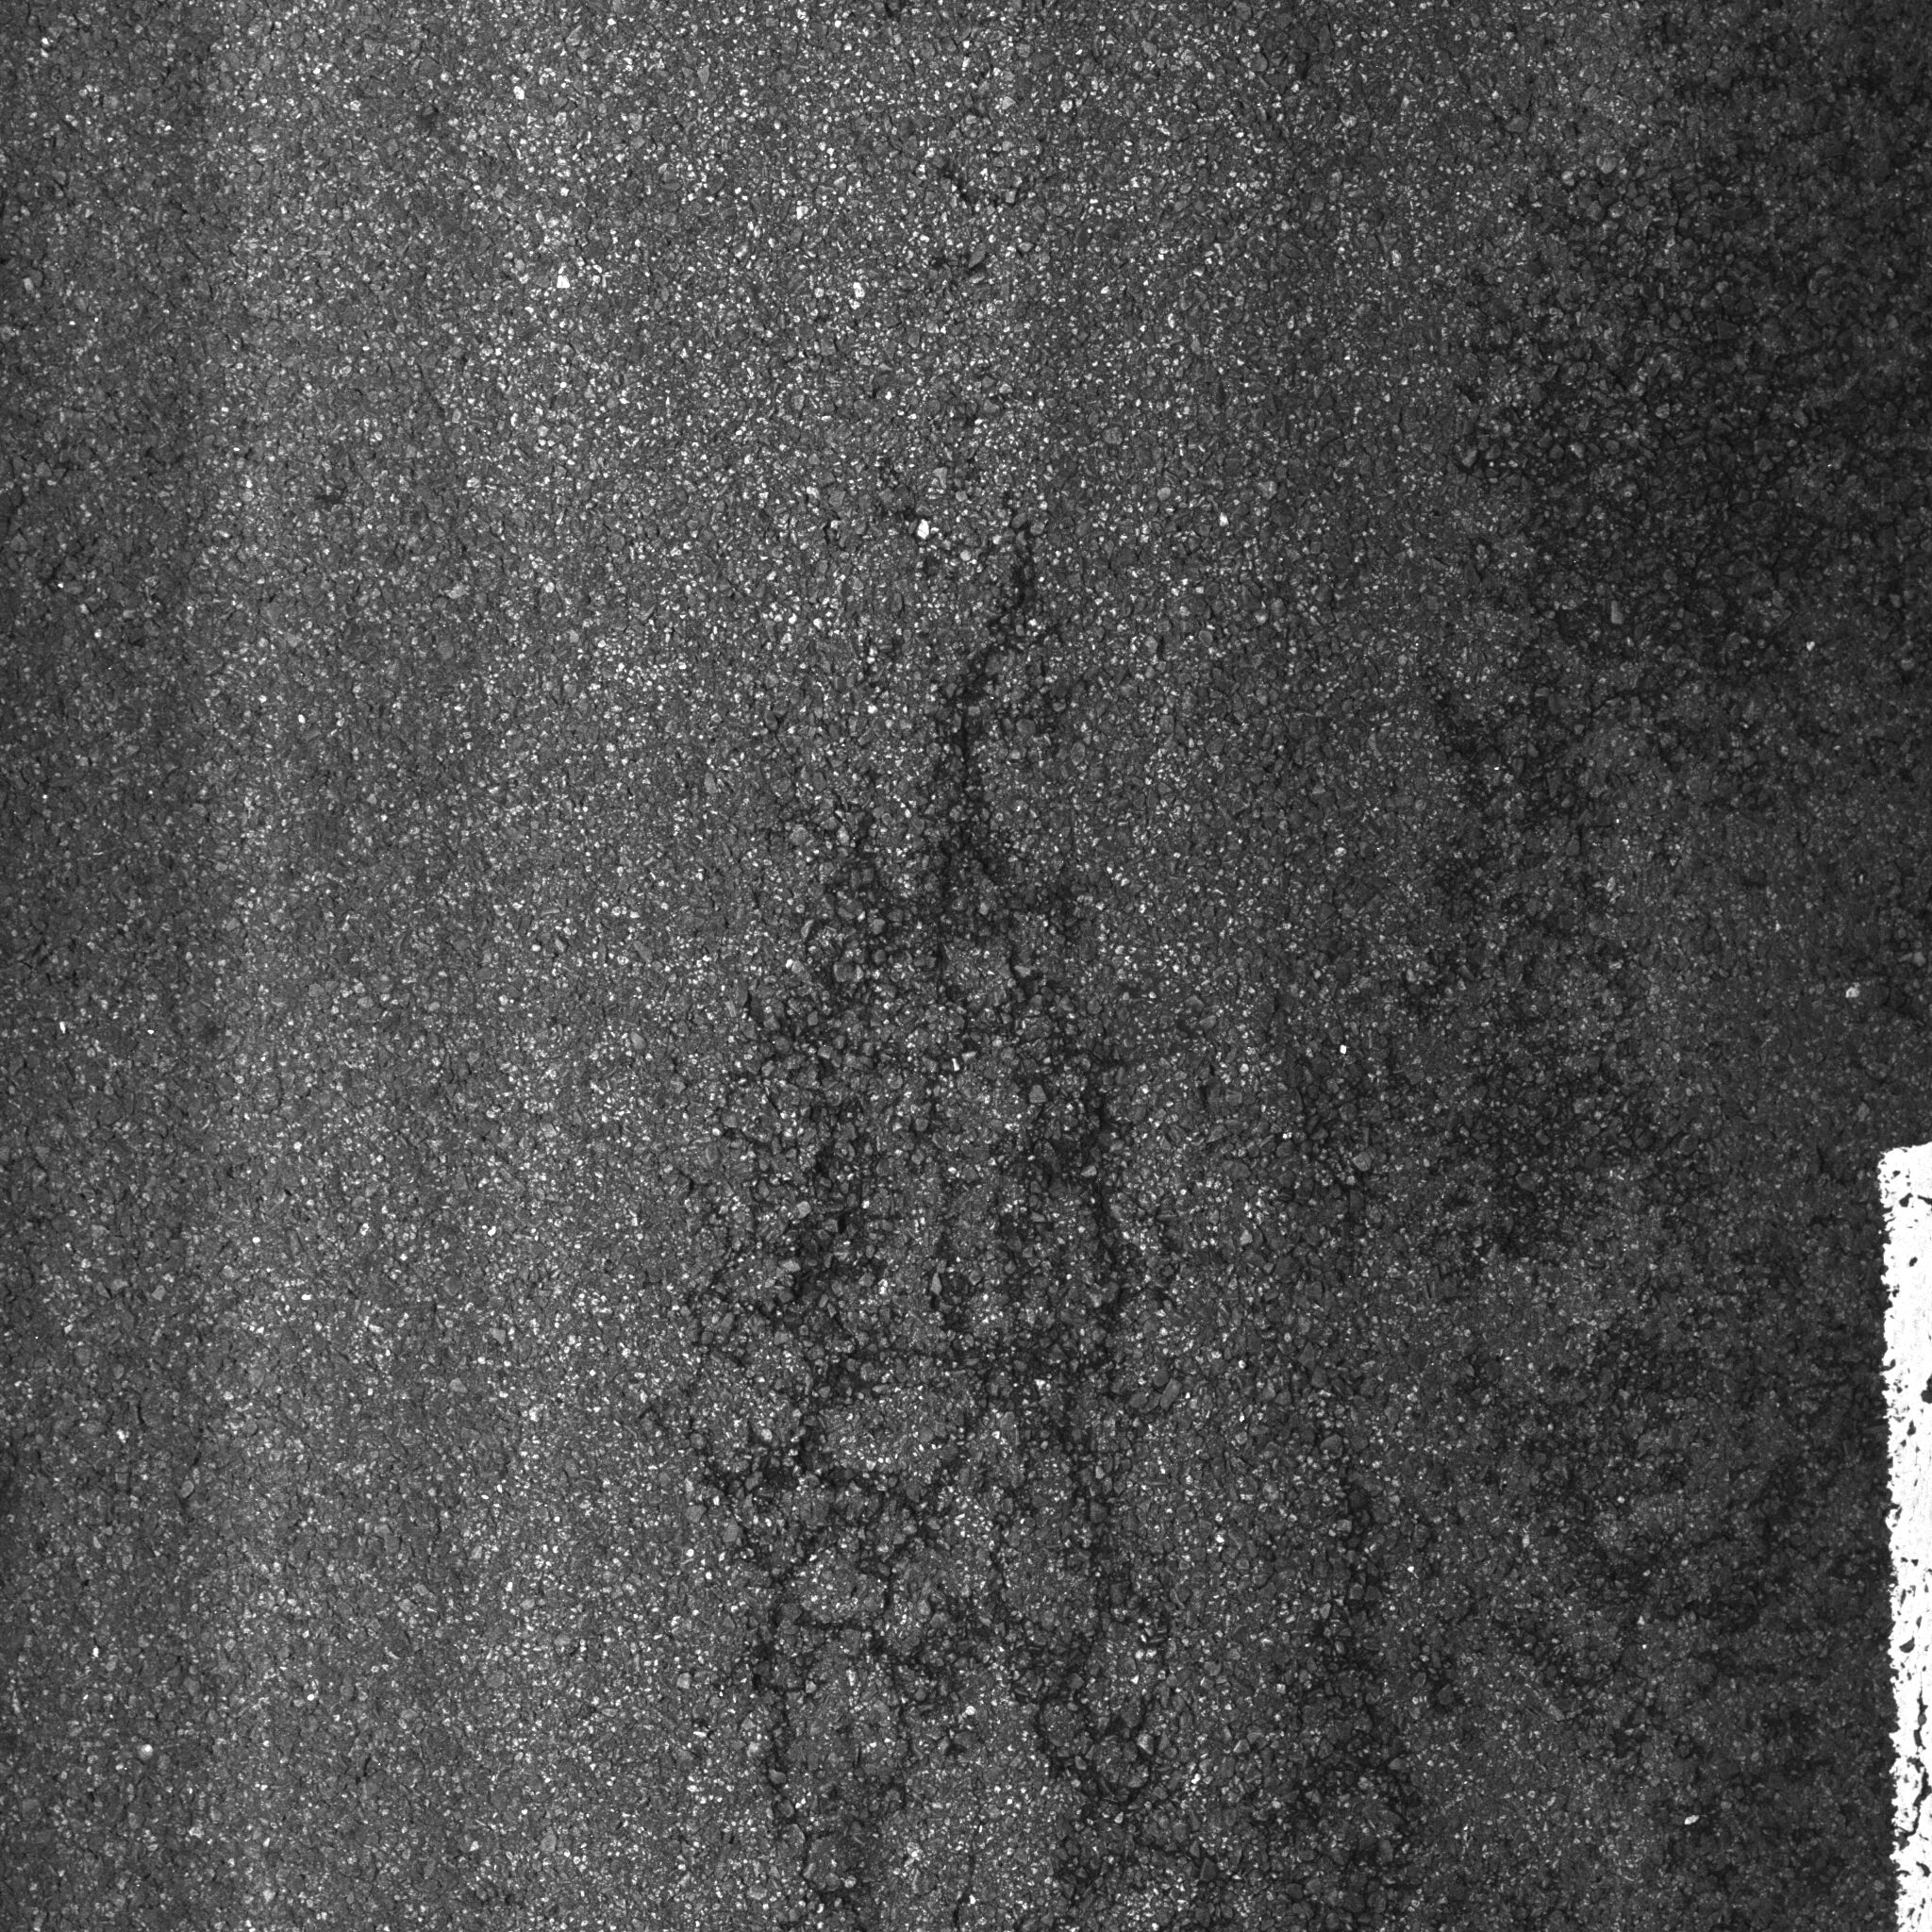alligator: (515, 221, 1898, 1932)
